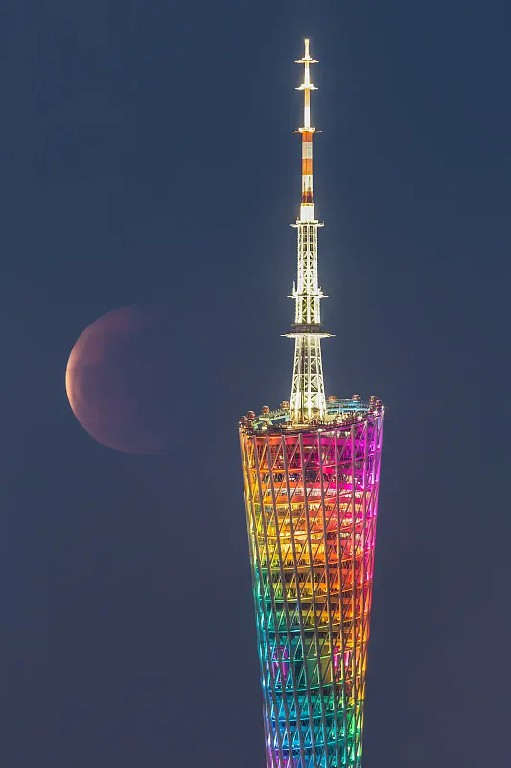Canton: (236, 36, 385, 768)
